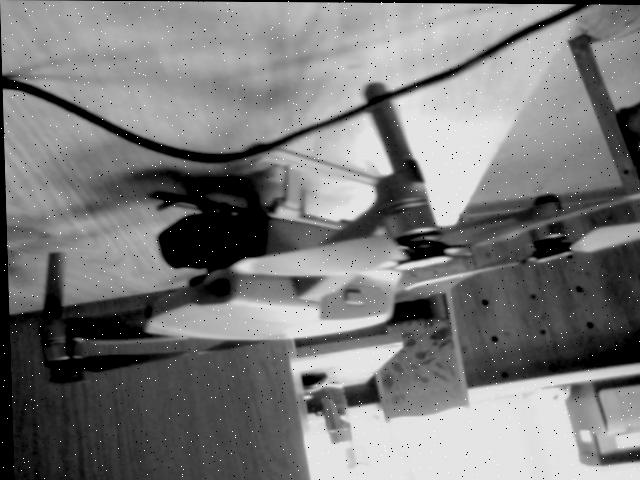drone: (3, 87, 640, 391)
